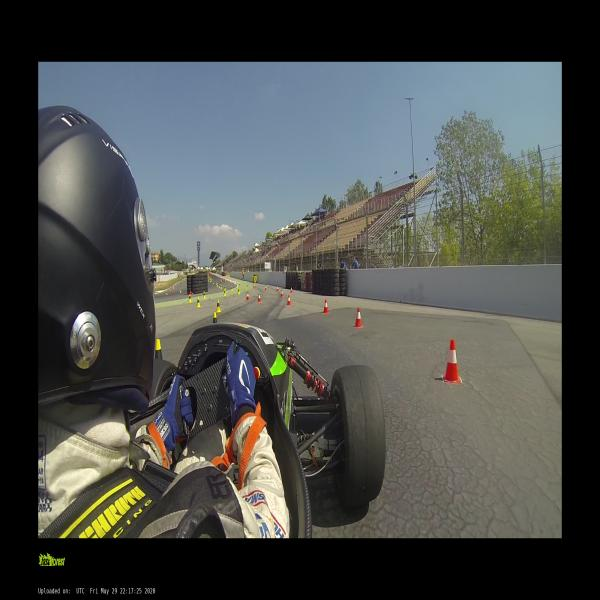orange_cone: (443, 339, 461, 383), (354, 307, 364, 328), (322, 299, 329, 313), (287, 295, 291, 305), (258, 294, 262, 302), (280, 290, 284, 297), (246, 292, 249, 300), (290, 287, 293, 293), (276, 286, 279, 292), (264, 285, 266, 290)
yellow_cone: (155, 339, 163, 360), (216, 299, 221, 313), (196, 297, 201, 307), (213, 314, 217, 323), (188, 294, 192, 302), (202, 291, 206, 298), (237, 288, 240, 294), (230, 286, 233, 291), (224, 286, 226, 290), (220, 286, 222, 290), (224, 291, 225, 296), (219, 284, 220, 288)
